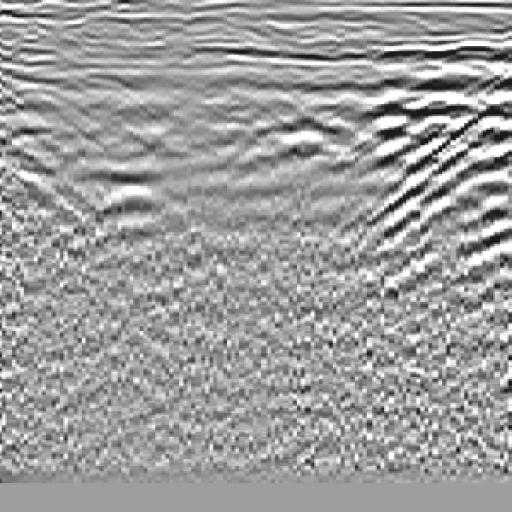metalic: (49, 58, 225, 280)
nonmetalic: (338, 53, 512, 309)
